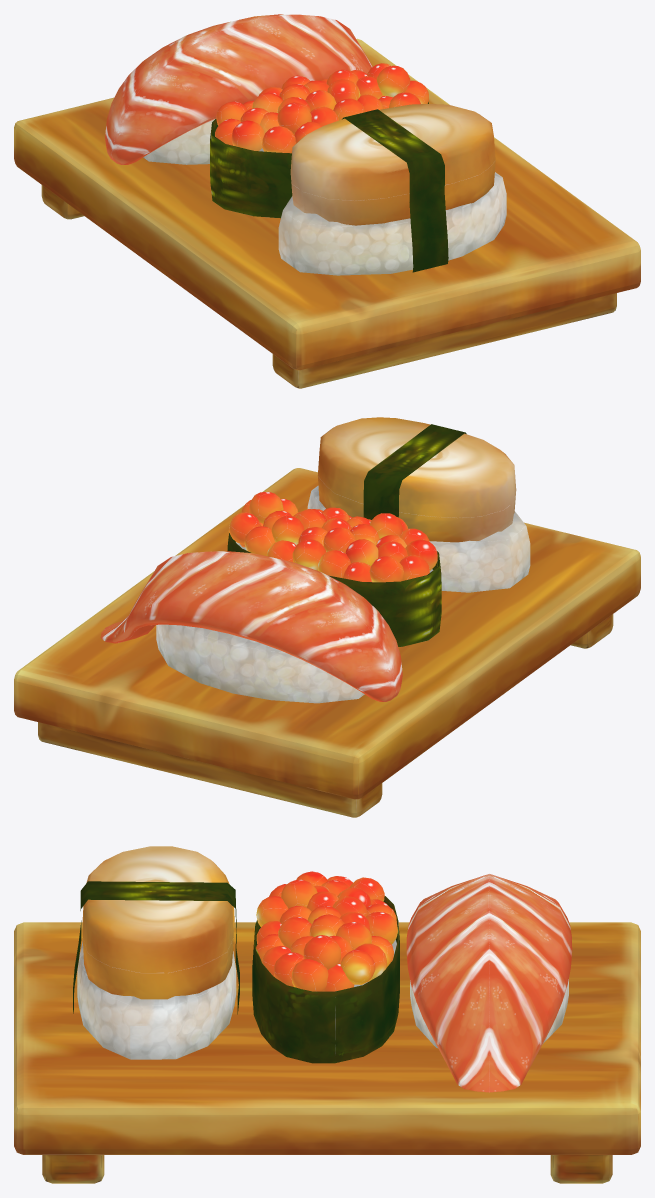
File: sushi1.glb
3 renders of one model, top to bottom at view 1: azimuth 30°, elevation 25°; view 2: azimuth 150°, elevation 25°; view 3: azimuth 270°, elevation 25°, orthographic. The views are drawn at different scales.
Parts seen in each view (by area): view 1: Plane, Plane.011, Plane.004, Plane.002, Plane.007, Plane.003, Plane.001, Plane.005, Plane.040_0 (×2), Plane.043, Plane.017_0, Plane.043_0; view 2: Plane, Plane.011, Plane.004, Plane.005, Plane.007, Plane.002, Plane.040_0 (×7), Plane.001, Plane.003, Plane.043, Plane.043_0, Plane.017 (+2 smaller); view 3: Plane, Plane.011, Plane.004, Plane.001, Plane.002, Plane.043_0 (×7), Plane.007, Plane.003, Plane.040_0 (×5), Plane.043, Plane.040, Plane.005.
Boxes of the visible parts, x1,y1,x2,y2 form: Plane: (14,38,640,370); Plane.011: (105,14,372,164); Plane.004: (290,104,495,225); Plane.002: (278,172,506,275); Plane.007: (41,185,616,388); Plane.003: (342,109,448,272); Plane.001: (210,102,428,218); Plane.005: (143,119,214,164); Plane.040_0 (×2): (262,102,311,153); Plane.043: (376,65,410,97); Plane.017_0: (231,120,264,151); Plane.043_0: (327,79,360,103); Plane: (14,468,640,799); Plane.011: (100,551,402,701); Plane.004: (317,417,516,542); Plane.005: (156,624,364,703); Plane.007: (38,614,613,817); Plane.002: (307,485,530,592); Plane.040_0 (×7): (244,513,429,582); Plane.001: (227,533,441,646); Plane.003: (363,424,466,519); Plane.043: (249,491,283,523); Plane.043_0: (271,515,304,545); Plane.017: (345,539,378,565); Plane: (14,922,640,1154); Plane.011: (406,874,572,1092); Plane.004: (82,846,234,999); Plane.001: (252,896,399,1063); Plane.002: (77,941,236,1059); Plane.043_0 (×7): (256,896,371,991); Plane.007: (42,1155,612,1183); Plane.003: (73,881,239,1014); Plane.040_0 (×5): (281,877,397,981); Plane.043: (303,935,340,969); Plane.040: (340,950,375,984); Plane.005: (410,979,568,1048).
Size of the model in its own units: 5.99 by 3.04 by 8.51.
Materials: 1 (1 with a texture image).
